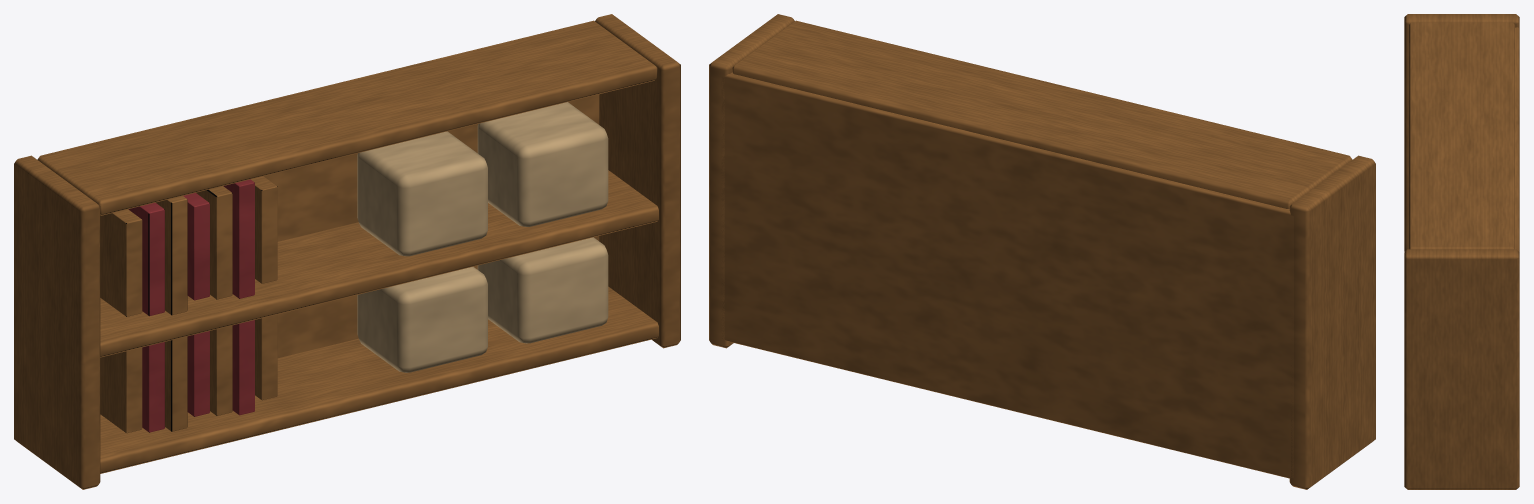
File: Furn_LowShelf.fbx
3 renders of one model, left to right at view 1: azimuth 30°, elevation 25°; view 2: azimuth 150°, elevation 25°; view 3: azimuth 270°, elevation 25°, orthographic. The views are drawn at different scales.
Parts seen in each view (by area): view 1: Furn_LowShelf_Mesh; view 2: Furn_LowShelf_Mesh; view 3: Furn_LowShelf_Mesh.
Part boxes in pixels (x1,y1,x2,y2): Furn_LowShelf_Mesh: (14, 14, 680, 489); Furn_LowShelf_Mesh: (709, 14, 1375, 489); Furn_LowShelf_Mesh: (1404, 14, 1519, 489).
Bounding box in the file's own units: 2 × 0.9 × 0.4.
Materials: 3 (3 with a texture image).
